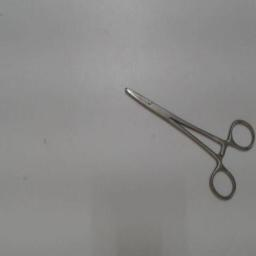Mayo Needle Holder: (118, 78, 254, 206)
